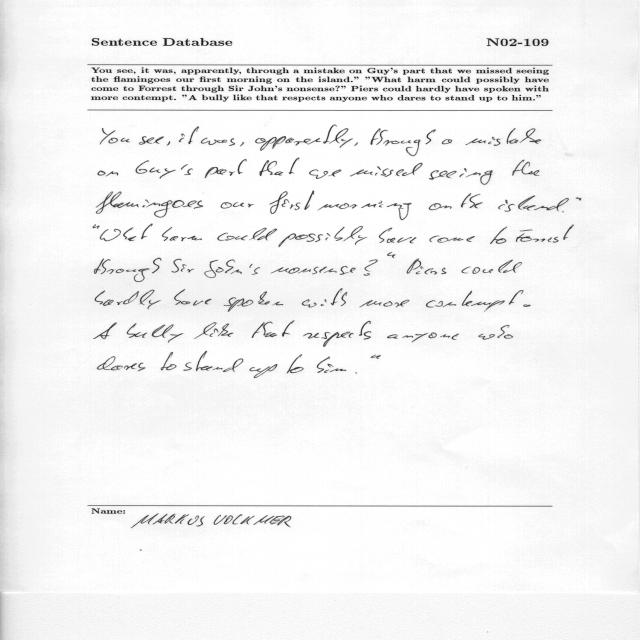word: (97, 192, 204, 218), (255, 125, 353, 151), (426, 290, 524, 312), (279, 226, 368, 247), (318, 201, 412, 220), (370, 129, 436, 156), (304, 321, 372, 347), (95, 258, 162, 282), (466, 128, 541, 146), (184, 351, 244, 372), (95, 290, 161, 309), (224, 291, 283, 312), (498, 195, 569, 212), (127, 323, 184, 343), (429, 168, 493, 185), (136, 160, 193, 179), (516, 225, 574, 243), (269, 191, 314, 214), (350, 163, 423, 177), (204, 260, 260, 278), (100, 224, 153, 241), (302, 289, 347, 308), (461, 260, 522, 274), (205, 159, 247, 178), (217, 228, 277, 241), (252, 320, 295, 338), (98, 356, 146, 372), (271, 266, 356, 275), (260, 158, 300, 176), (387, 333, 459, 343), (194, 322, 233, 339), (407, 259, 447, 275), (174, 289, 211, 305), (162, 227, 202, 241), (379, 228, 416, 243), (317, 356, 346, 373), (479, 325, 514, 339), (101, 128, 130, 144), (512, 160, 540, 176), (360, 300, 410, 308), (250, 364, 278, 378), (94, 323, 117, 340), (179, 126, 199, 144), (309, 169, 342, 179), (287, 355, 304, 374), (461, 193, 482, 208), (430, 236, 475, 243), (490, 227, 507, 244), (172, 259, 194, 272), (161, 352, 176, 371), (201, 138, 235, 146), (364, 259, 378, 276), (221, 202, 254, 209), (139, 136, 164, 145), (429, 203, 452, 210), (98, 170, 118, 177), (387, 253, 396, 259), (442, 139, 452, 144), (371, 355, 381, 359), (93, 224, 100, 229), (523, 304, 531, 307), (240, 142, 244, 146), (354, 142, 358, 146), (167, 141, 170, 146), (576, 197, 581, 200), (562, 211, 564, 213), (355, 372, 357, 374)
